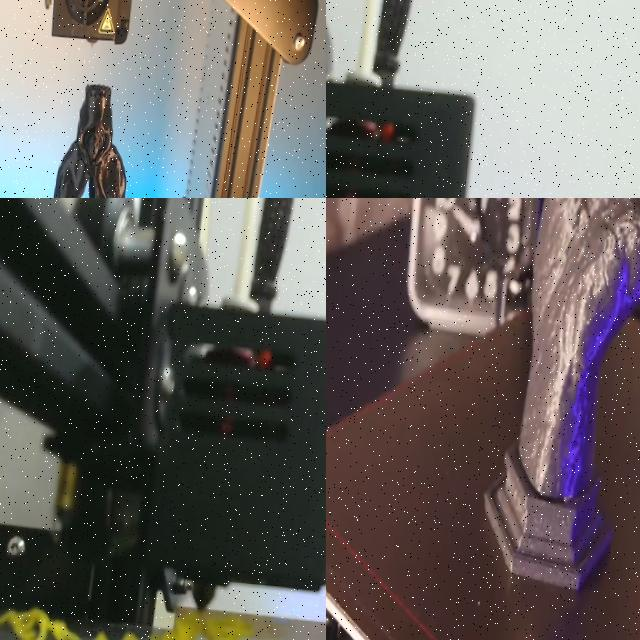spaghetti: (148, 610, 252, 640), (0, 607, 85, 640)
